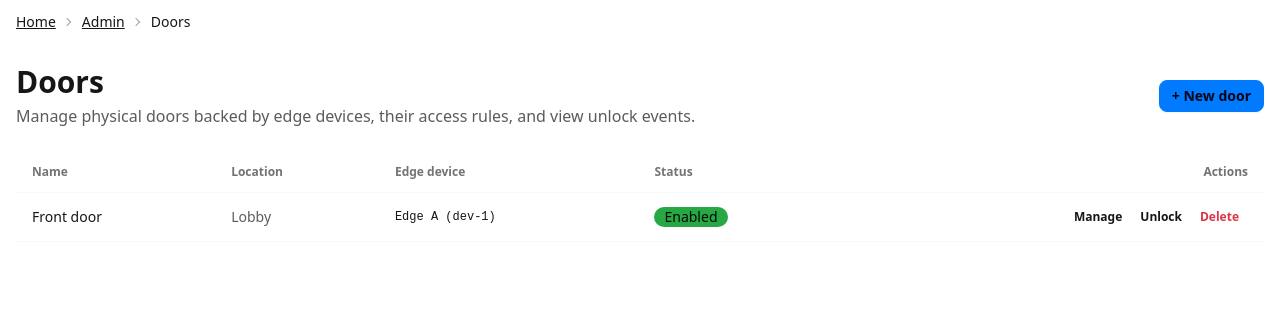
Test: unlocking and republishing › reports an unlock the edge did not perform
The width and height of the screenshot is (1280, 318).
Click the button "Unlock" at [1161, 217], box [1131,205,1191,229]
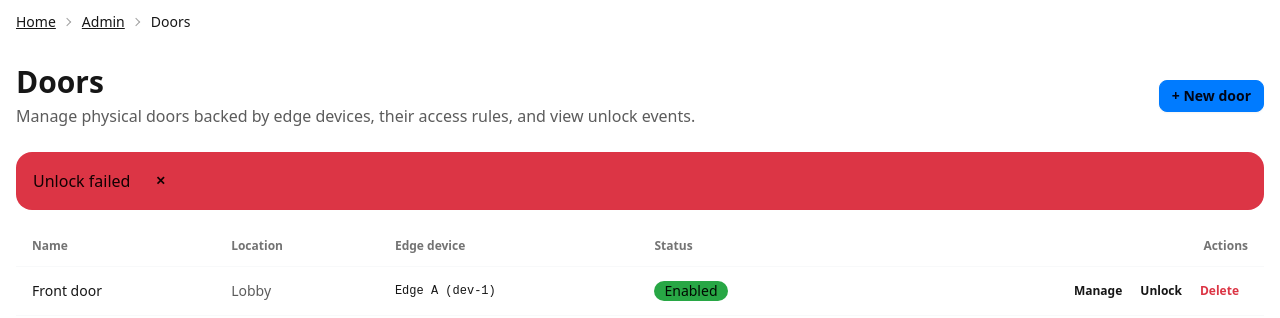
expect the element with class "alert-error" is shown: met, box [16,152,1264,210]
